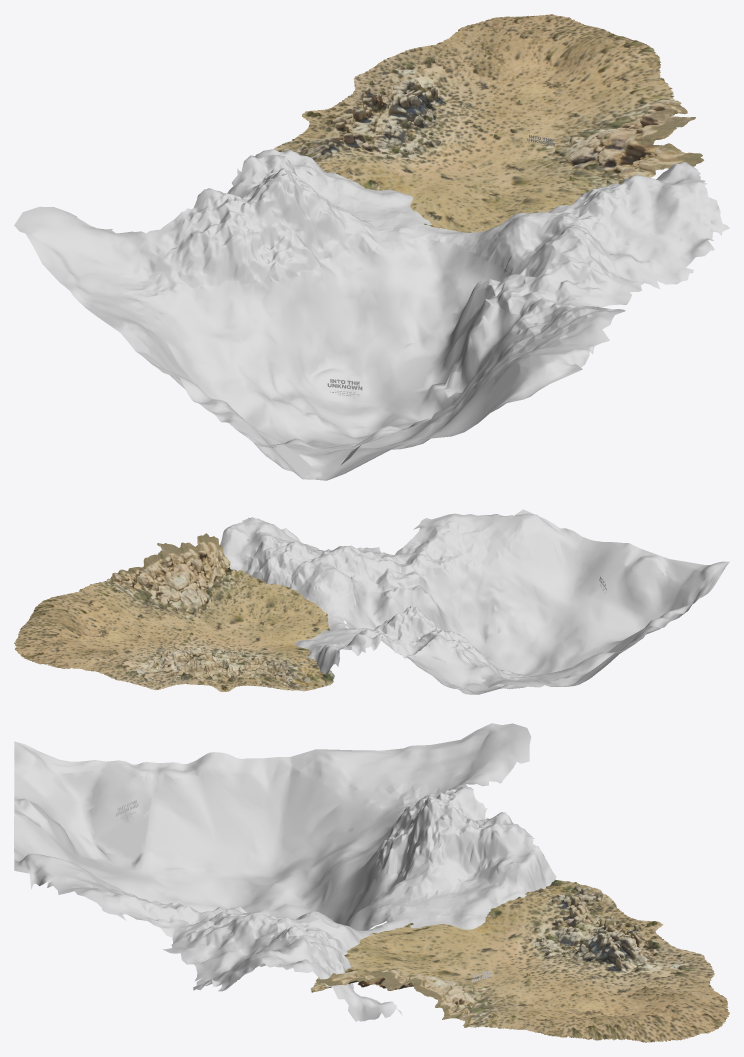
File: landscape.glb
3 views of the same model, one above another, from view 1: azimuth 30°, elevation 25°; view 2: azimuth 150°, elevation 25°; view 3: azimuth 270°, elevation 25° (orthographic). The views are drawn at different scales.
Visible parts, largest first — view 1: mountain, underwater, Object_8; view 2: Object_8, mountain, underwater; view 3: mountain, underwater, Object_8.
Boxes of the visible parts, box(x1,y1,x2,y2) form: mountain: box(14, 149, 729, 449); underwater: box(143, 239, 521, 480); Object_8: box(274, 14, 703, 233); Object_8: box(14, 533, 334, 692); mountain: box(220, 509, 729, 687); underwater: box(343, 550, 700, 694); mountain: box(14, 723, 556, 1021); underwater: box(28, 769, 403, 966); Object_8: box(310, 880, 729, 1042).
Size of the model in its own units: 172 by 44.1 by 172.
4 materials, 1 textured.
